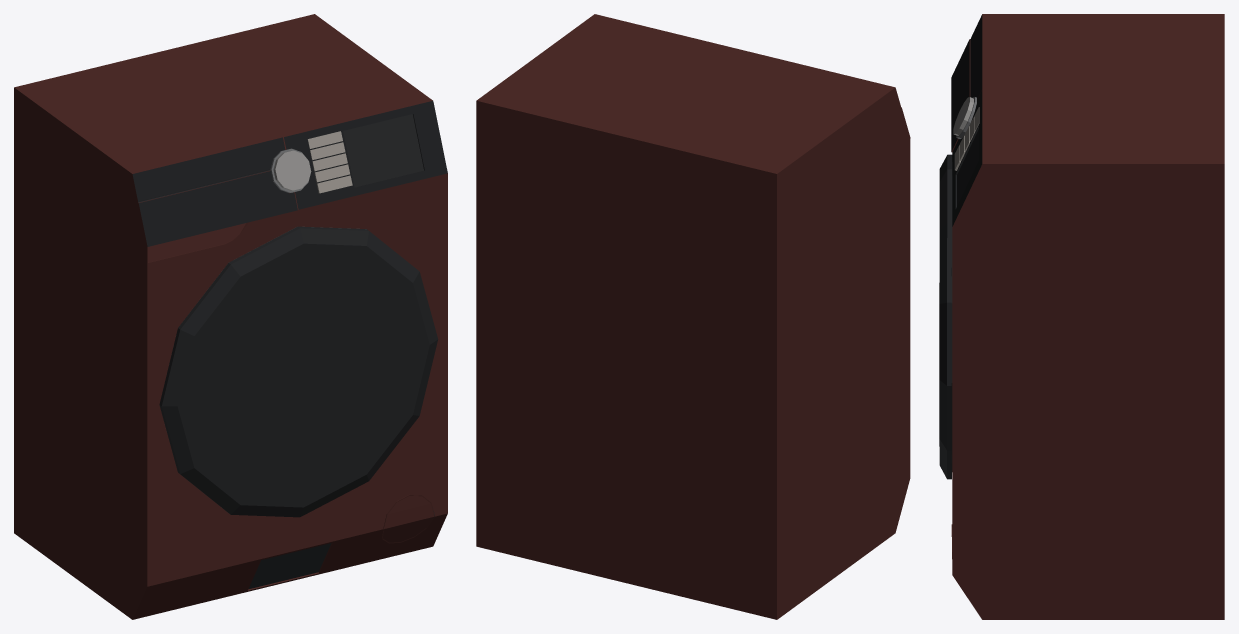
The model's file is washingmachinemodern_01_C.gltf.
3 views of the same model, side by side, from view 1: azimuth 30°, elevation 25°; view 2: azimuth 150°, elevation 25°; view 3: azimuth 270°, elevation 25° (orthographic). The views are drawn at different scales.
Visible parts, largest first — view 1: washingmachinemodern_01_C, Doorforwashingmachinemodern_01_C, Shelfforwashingmachinemodern_01_C, Hatchforwashingmachinemodern_01_C, Switchforwashingmachinemodern_01_C; view 2: washingmachinemodern_01_C; view 3: washingmachinemodern_01_C, Doorforwashingmachinemodern_01_C, Shelfforwashingmachinemodern_01_C, Switchforwashingmachinemodern_01_C.
Boxes of the visible parts, bbox=[...] form: washingmachinemodern_01_C: bbox=[14, 14, 447, 619]; Doorforwashingmachinemodern_01_C: bbox=[159, 226, 438, 517]; Shelfforwashingmachinemodern_01_C: bbox=[138, 170, 297, 246]; Hatchforwashingmachinemodern_01_C: bbox=[382, 495, 434, 543]; Switchforwashingmachinemodern_01_C: bbox=[273, 150, 311, 190]; washingmachinemodern_01_C: bbox=[476, 14, 910, 619]; washingmachinemodern_01_C: bbox=[952, 14, 1224, 619]; Doorforwashingmachinemodern_01_C: bbox=[939, 154, 952, 479]; Shelfforwashingmachinemodern_01_C: bbox=[951, 39, 970, 152]; Switchforwashingmachinemodern_01_C: bbox=[953, 97, 973, 135].
Bounding box in the file's own units: 0.6 × 0.85 × 0.4818.
1 material, 1 textured.
